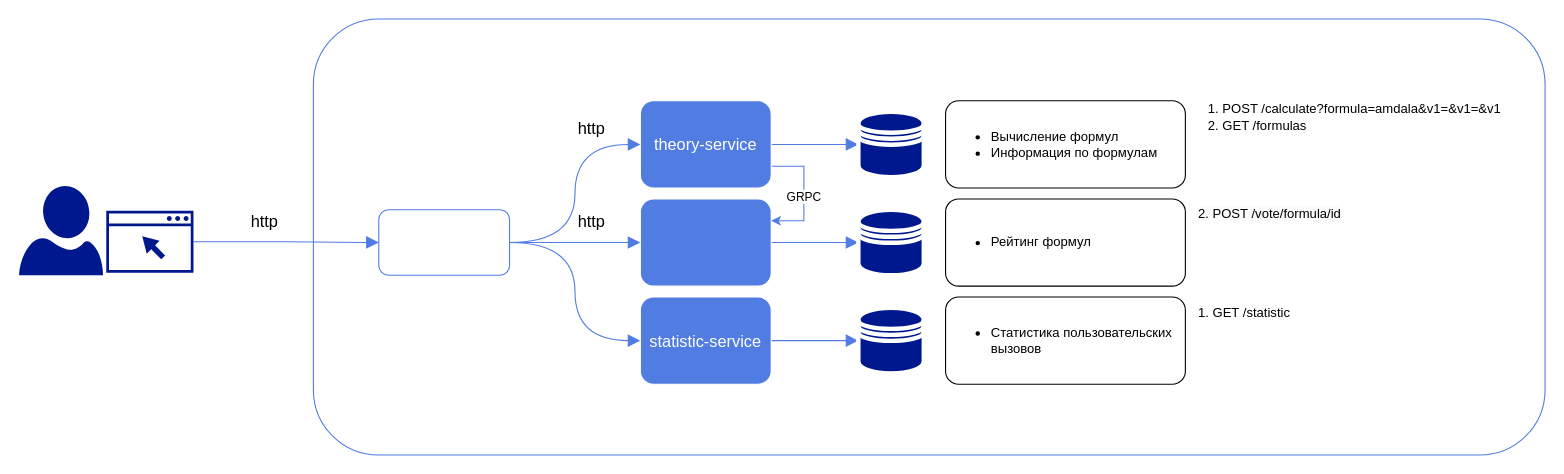
Image size: 1564x474. Some labels were removed from this diagram. Each missing label, with the box of its shape:
gateway-service: (378, 209, 510, 275)
rating-service: (639, 198, 771, 286)
